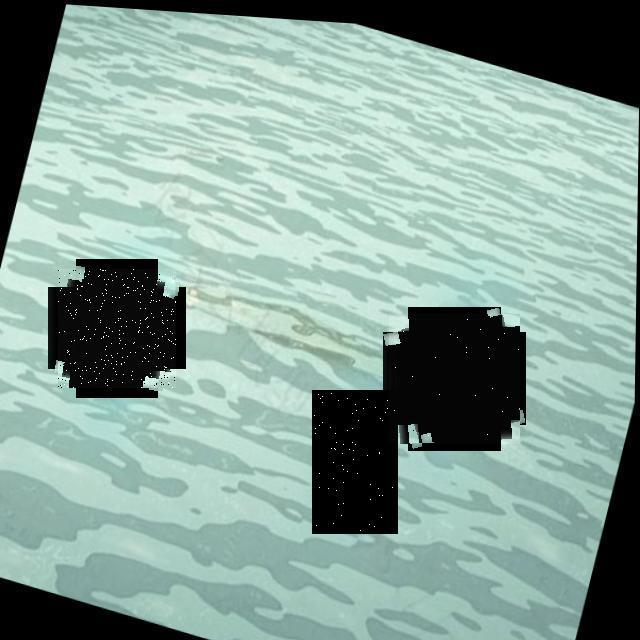swimming: (389, 314, 520, 444), (58, 269, 176, 388), (312, 390, 398, 534)
